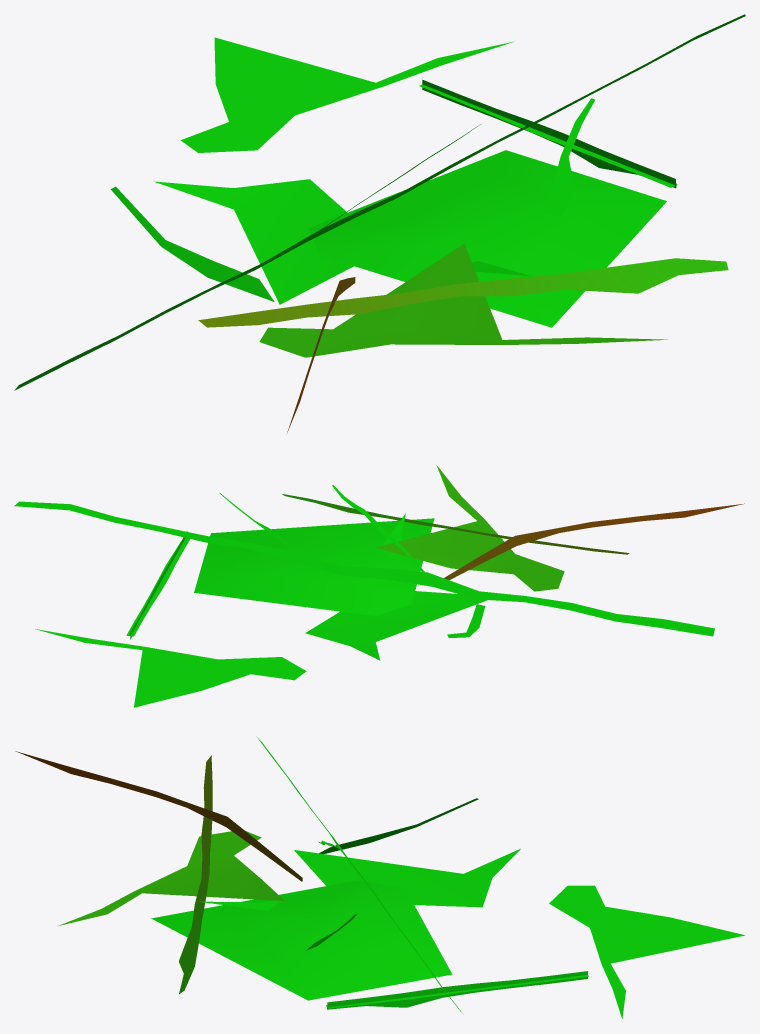
Rendered from Dead Shrubs_LOD0_Var6_vdknafgha.fbx.
3 views of the same model, one above another, from view 1: azimuth 30°, elevation 25°; view 2: azimuth 150°, elevation 25°; view 3: azimuth 270°, elevation 25° (orthographic). The views are drawn at different scales.
Visible parts, largest first — view 1: _dn3i_Var6_LOD0; view 2: _dn3i_Var6_LOD0; view 3: _dn3i_Var6_LOD0.
Part boxes in pixels (x1=…): _dn3i_Var6_LOD0: x1=14, y1=14, x2=745, y2=433; _dn3i_Var6_LOD0: x1=14, y1=465, x2=744, y2=707; _dn3i_Var6_LOD0: x1=15, y1=737, x2=744, y2=1018.
Size of the model in its own units: 57.72 by 8.57 by 54.52.
